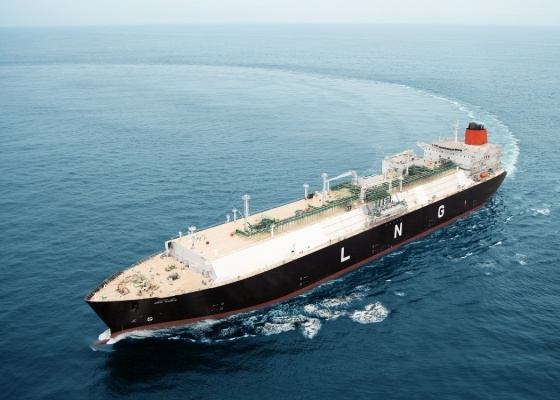Cargoship: (87, 117, 509, 345)
